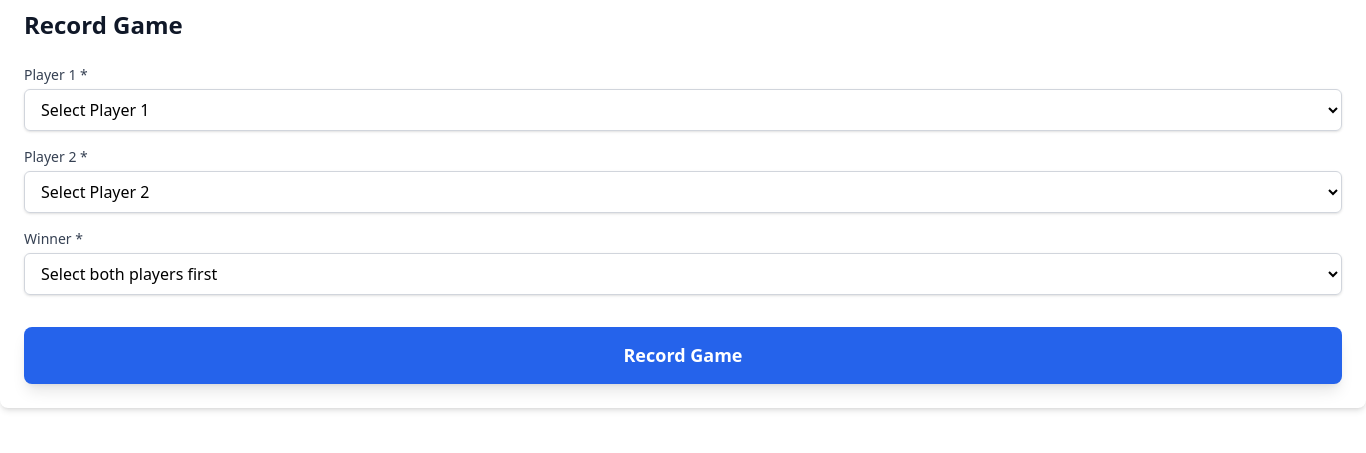
Test: AddGameForm › shows validation error when no winner is selected
The image size is (1366, 453).
Select "Player 1" in the dropdown labelled "Player 1 *" at (683, 110), box [24,89,1342,131]
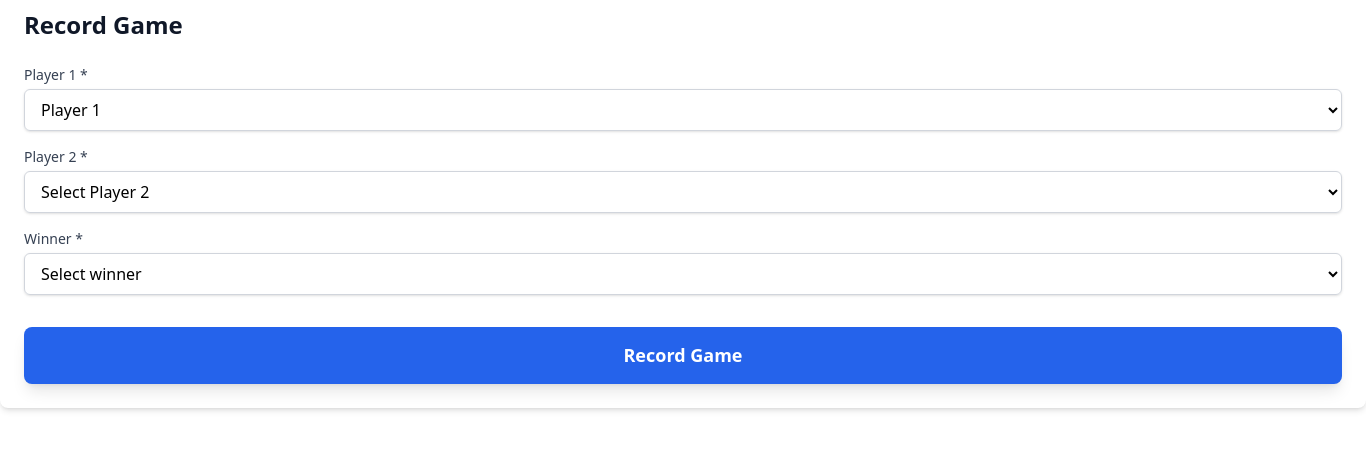
Select "Player 2" in the dropdown labelled "Player 2 *" at (683, 192), box [24,171,1342,213]
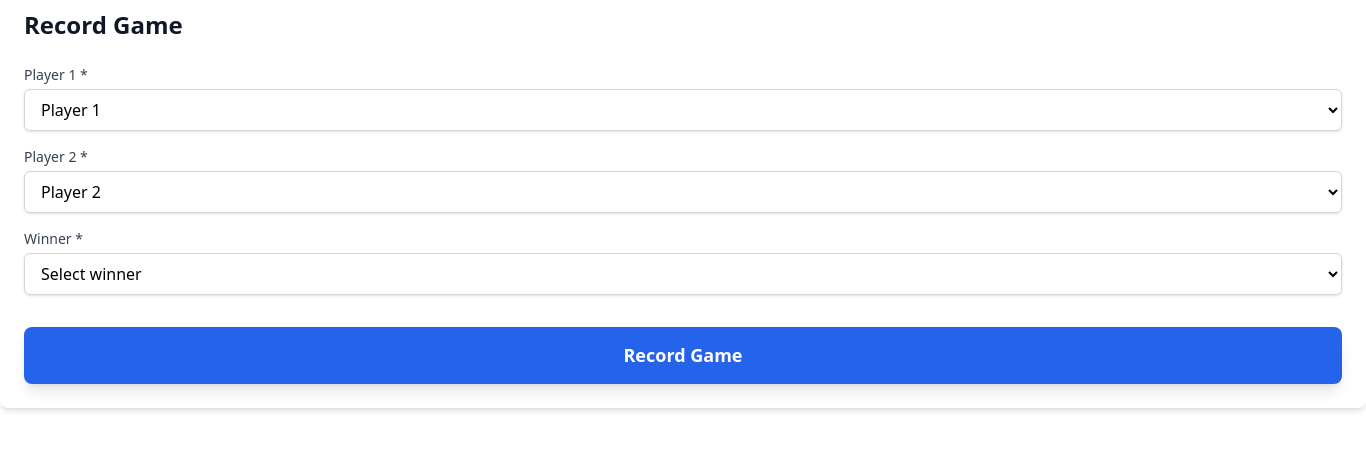
Don't select a winner - leave it at default '0' value
Click the button "Record Game" at (683, 355), box [24,327,1342,384]
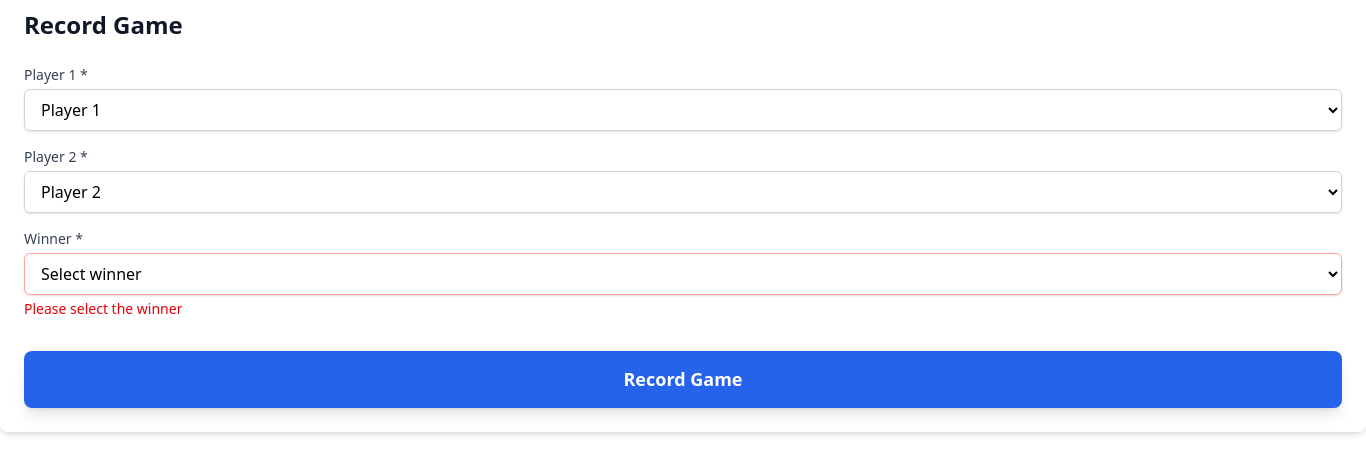
Check: the text "Please select the winner" is shown, box [24,299,182,318]
